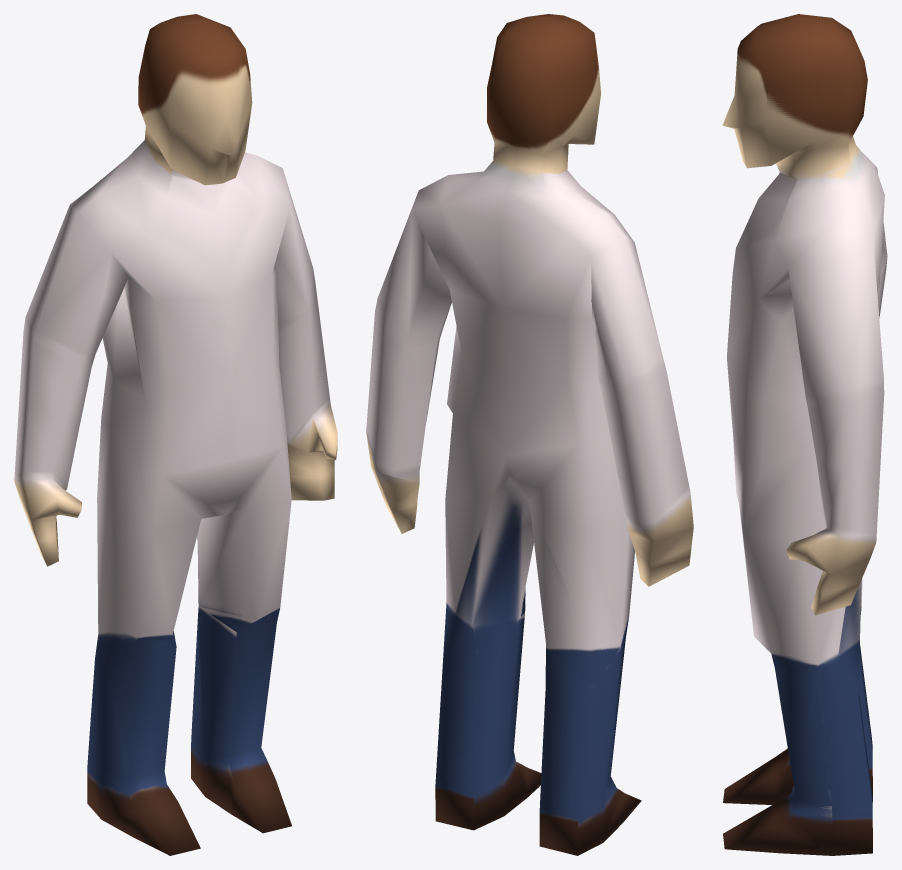
Rendered from patient.fbx.
The picture shows the model from 3 angles, left to right: view 1: azimuth 30°, elevation 25°; view 2: azimuth 150°, elevation 25°; view 3: azimuth 270°, elevation 25°; orthographic projection.
Parts seen in each view (by area): view 1: M-lowpoly; view 2: M-lowpoly; view 3: M-lowpoly.
Part boxes in pixels (<box>): M-lowpoly: <box>14,14,337,855</box>; M-lowpoly: <box>366,14,693,855</box>; M-lowpoly: <box>722,14,887,855</box>.
Bounding box in the file's own units: 41.73 × 101 × 18.78.
